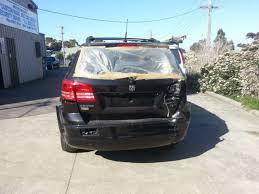Bumper: (60, 101, 190, 150)
Light: (162, 82, 186, 112)
Windshield: (78, 48, 183, 79)
